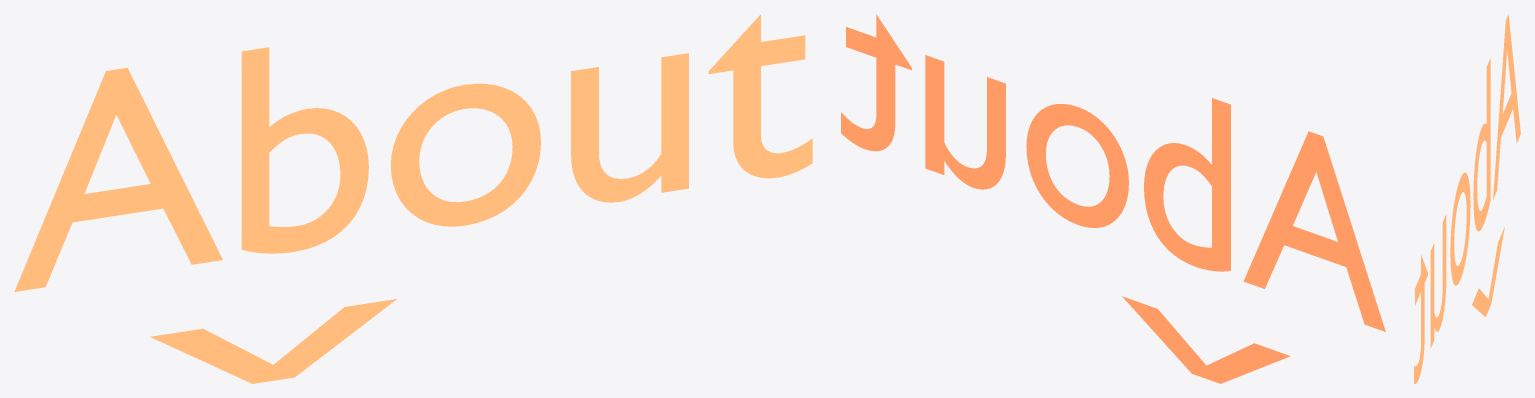
The model's file is about-helper.glb.
3 renders of one model, left to right at view 1: azimuth 30°, elevation 25°; view 2: azimuth 150°, elevation 25°; view 3: azimuth 270°, elevation 25°, orthographic. The views are drawn at different scales.
Parts seen in each view (by area): view 1: Text.002, Text.003; view 2: Text.002, Text.003; view 3: Text.002, Text.003.
Part boxes in pixels (<box>): Text.002: <box>14,14,812,291</box>; Text.003: <box>150,299,396,383</box>; Text.002: <box>841,14,1385,331</box>; Text.003: <box>1122,296,1290,383</box>; Text.002: <box>1414,14,1520,383</box>; Text.003: <box>1472,226,1504,316</box>.
Size of the model in its own units: 24.66 by 10.96 by 4.37.
